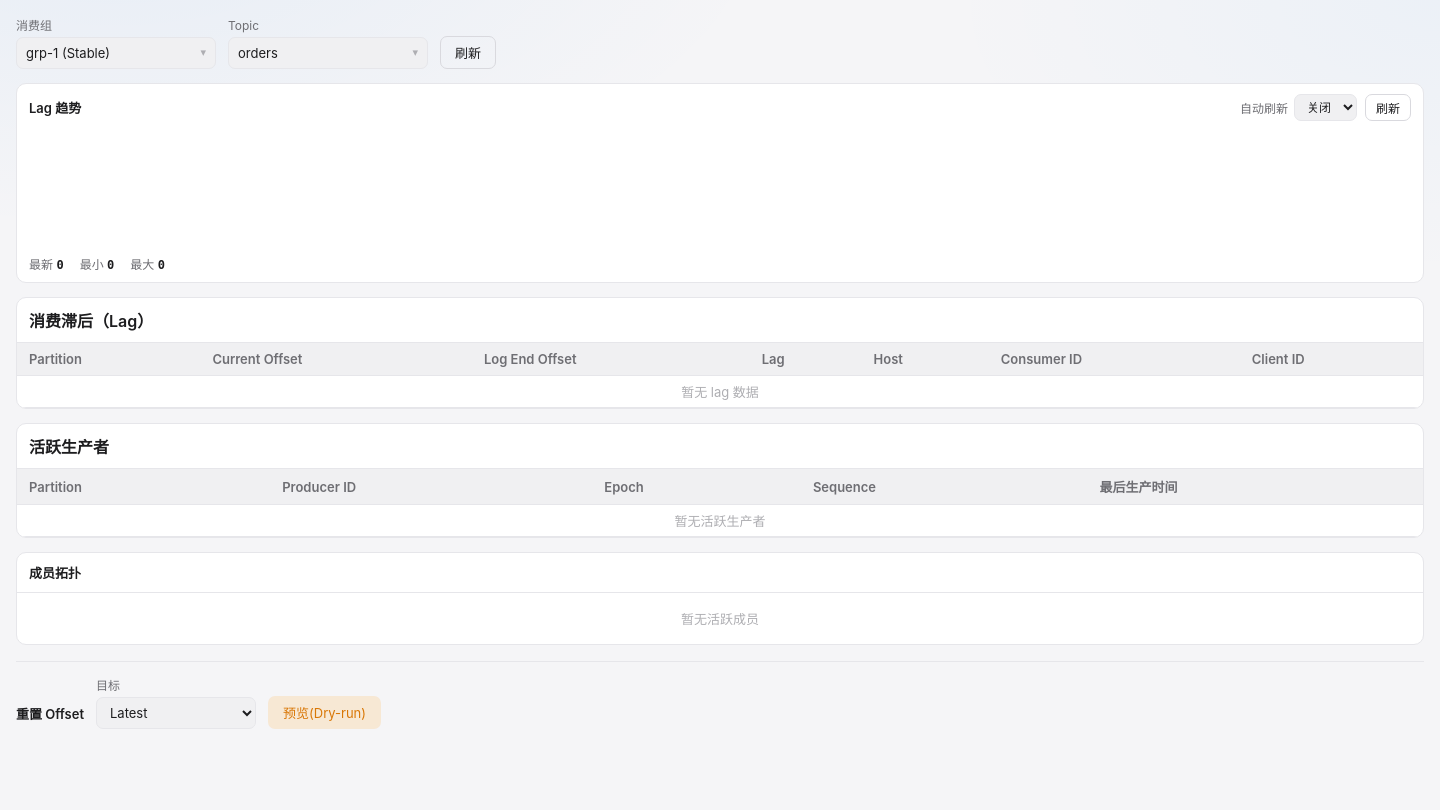
Test: ConsumerGroupView › filters the consumer group dropdown by fuzzy search
This screenshot has width=1440, height=810.
Click the button with test id "search-select-trigger" showing "grp-1 (Stable) ▾" at [116, 53], box [16,37,216,69]
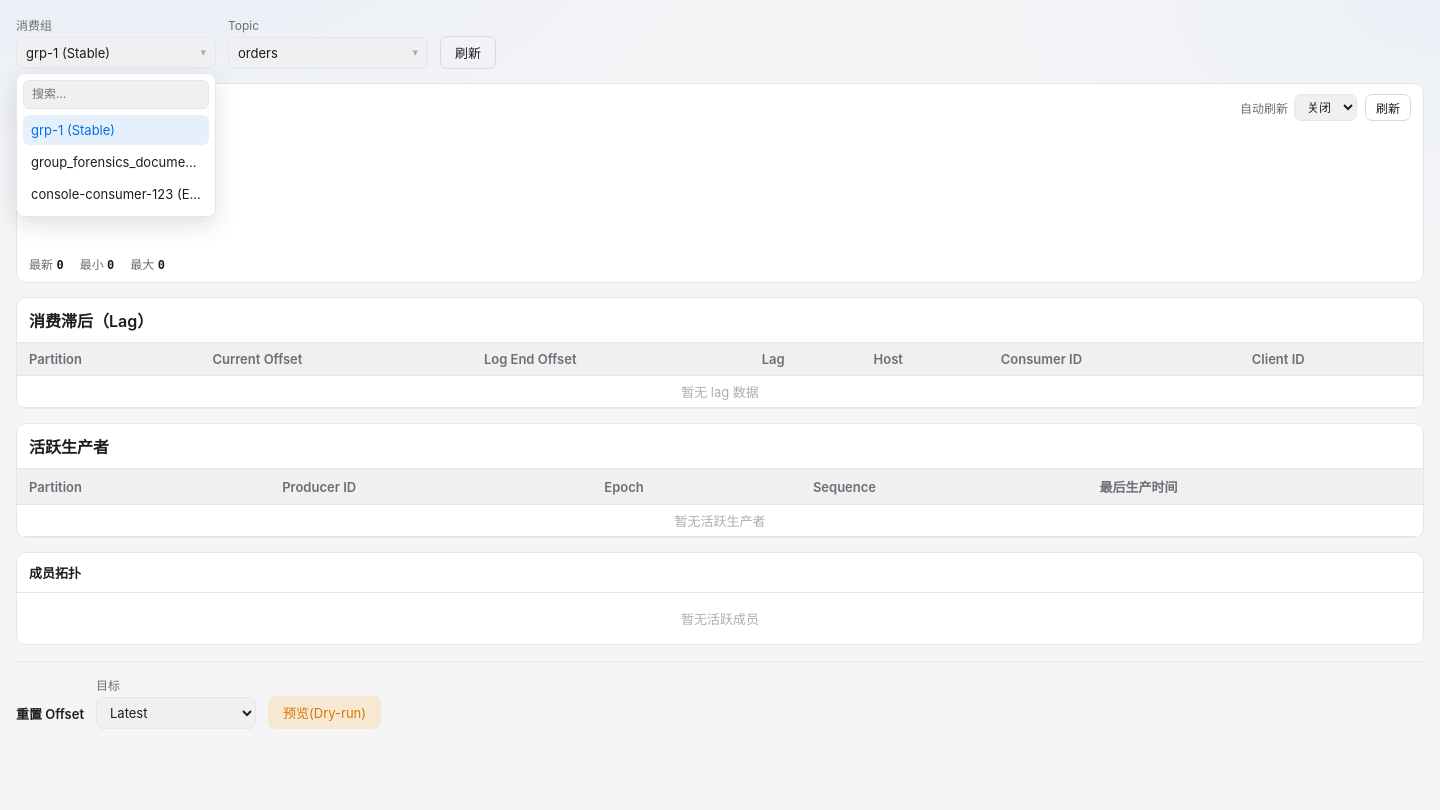
Type "grp" into the search field with test id "search-select-input" at [116, 95], box [23,80,209,109]
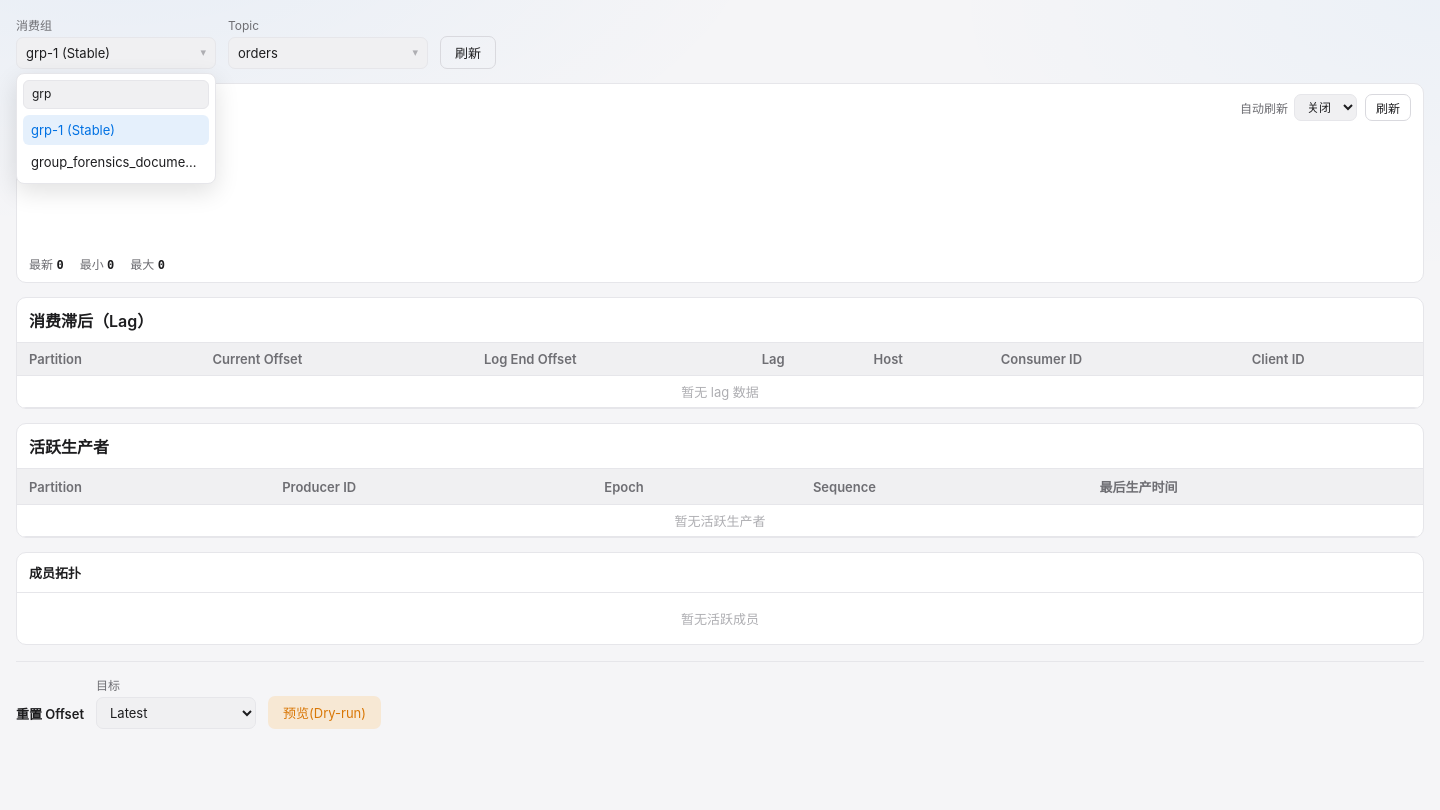
expect the elements with test id "search-select-option" read "grp-1 (Stable)", "group_forensics_document_wait (Empty)", in this order: met, box [23,115,209,145]; [31,154,209,170]
